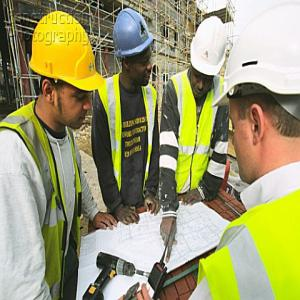blue: (114, 9, 154, 88)
white: (232, 4, 299, 182), (189, 15, 227, 92)
yellow: (33, 11, 95, 132)
